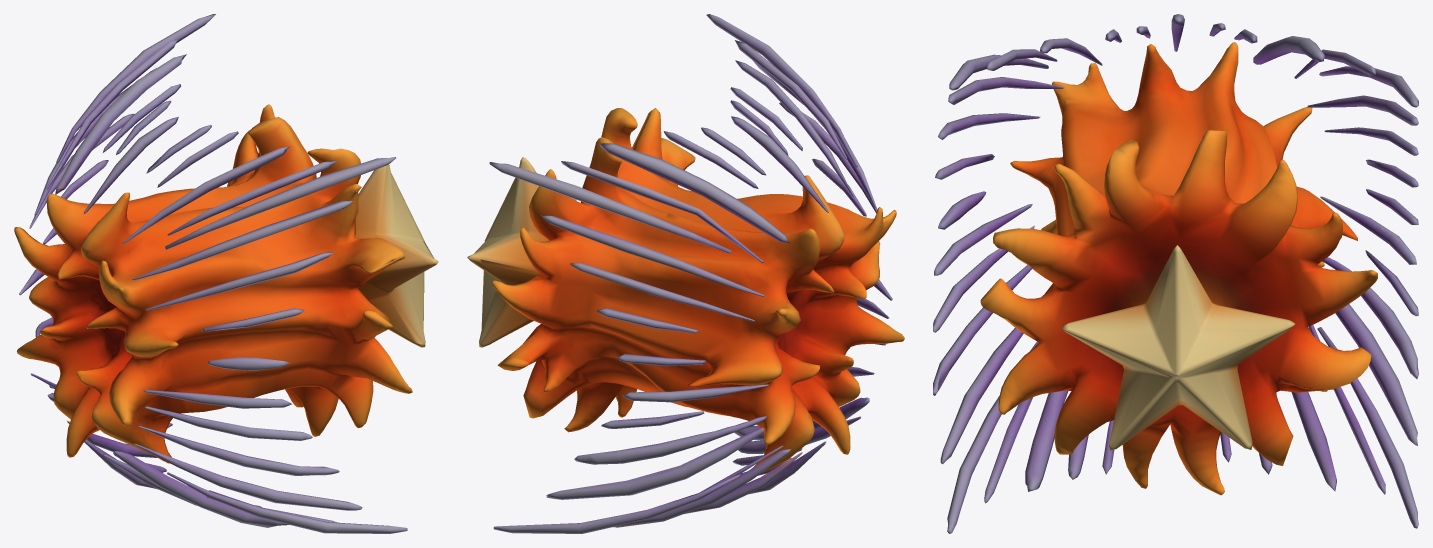
File: r33-starshell.glb
The picture shows the model from 3 angles, left to right: view 1: azimuth 30°, elevation 25°; view 2: azimuth 150°, elevation 25°; view 3: azimuth 270°, elevation 25°; orthographic projection. The views are drawn at different scales.
Visible parts, largest first — view 1: tripo_node_8e4d9596-752f-474e-a393-d5bfbd8d9909; view 2: tripo_node_8e4d9596-752f-474e-a393-d5bfbd8d9909; view 3: tripo_node_8e4d9596-752f-474e-a393-d5bfbd8d9909.
Part boxes in pixels (x1=…): tripo_node_8e4d9596-752f-474e-a393-d5bfbd8d9909: x1=14, y1=14, x2=438, y2=533; tripo_node_8e4d9596-752f-474e-a393-d5bfbd8d9909: x1=467, y1=14, x2=904, y2=533; tripo_node_8e4d9596-752f-474e-a393-d5bfbd8d9909: x1=933, y1=14, x2=1418, y2=533.
Bounding box in the file's own units: 0.998 × 0.998 × 0.998.
Materials: 1 (1 with a texture image).
